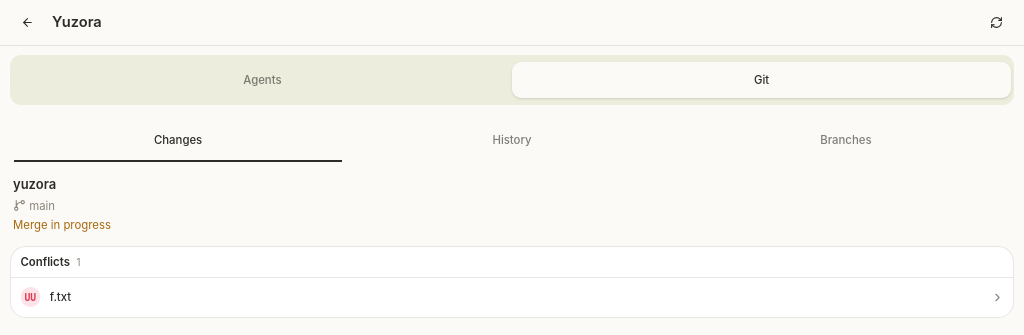
it: shows the unmerged notice when a Conflicted row's diff is git's bare --cc header
Click the text "f.txt" at (60, 297), box left=50, top=290, right=71, bottom=304
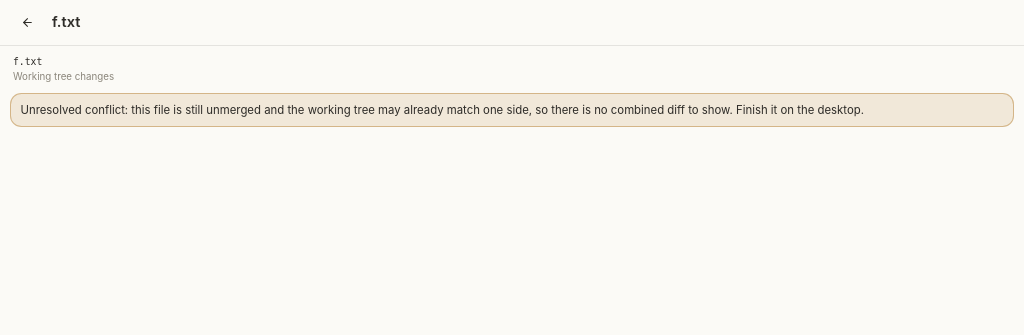
Result: the text "Unresolved conflict: this file is still unmerged" is shown at left=20, top=103, right=864, bottom=117
